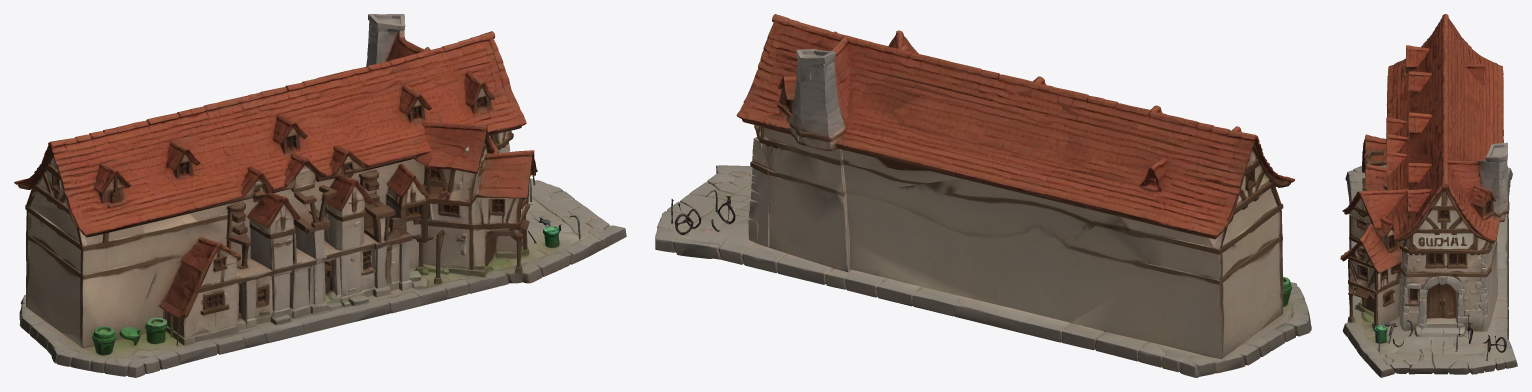
The picture shows the model from 3 angles, left to right: view 1: azimuth 30°, elevation 25°; view 2: azimuth 150°, elevation 25°; view 3: azimuth 270°, elevation 25°; orthographic projection. The views are drawn at different scales.
Visible parts, largest first — view 1: model; view 2: model; view 3: model.
Part boxes in pixels (x1,y1,x2,y2): model: (14, 14, 626, 377); model: (655, 14, 1311, 377); model: (1340, 14, 1517, 377).
Bounding box in the file's own units: 1.91 × 0.6844 × 0.6579.
Materials: 1 (1 with a texture image).
